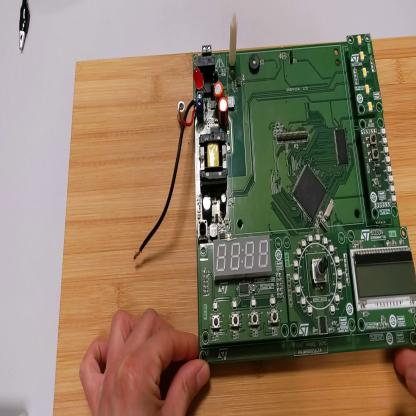hand: (79, 309, 211, 416), (392, 344, 416, 406)
low voltage board: (136, 16, 416, 367)
working area: (55, 47, 416, 415)
